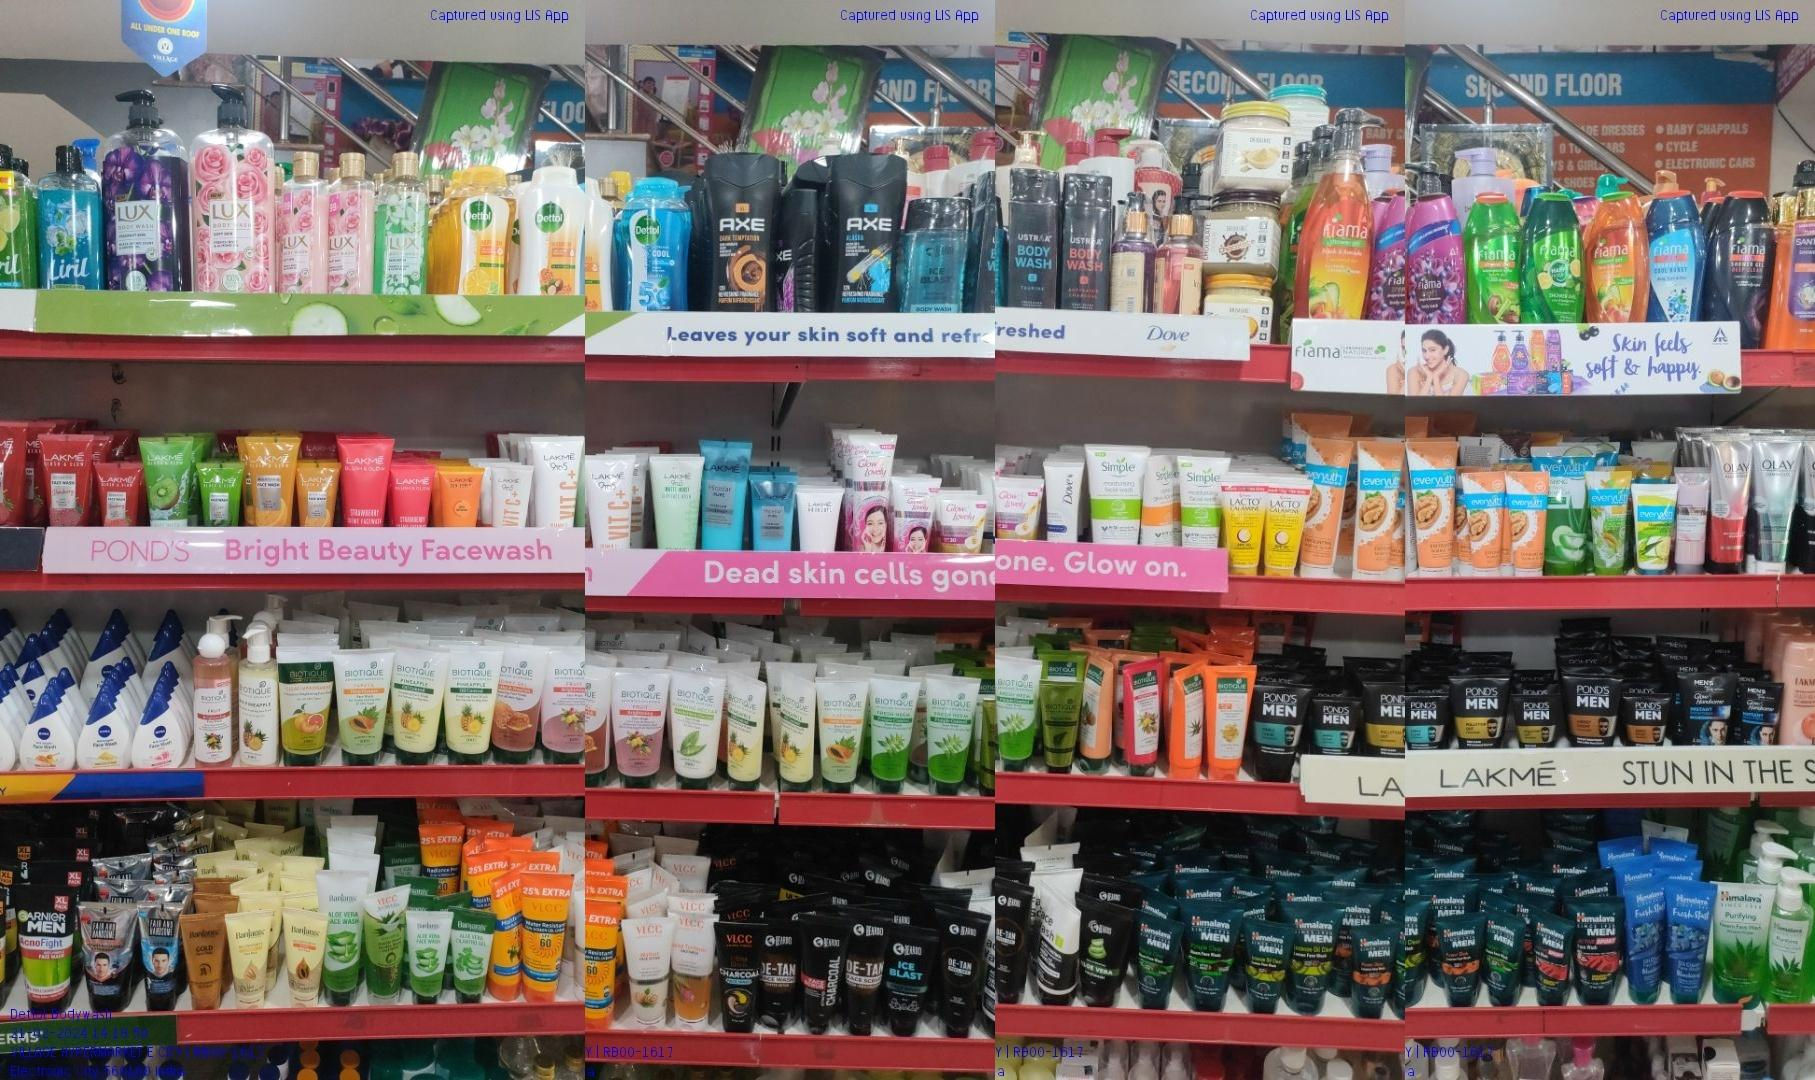Dettol_Bodywash_Cool: (620, 176, 693, 311)
Dettol_Bodywash_Refresh: (449, 165, 515, 294)
Dettol_Nourish_Body_Wash_250ML: (517, 165, 585, 296)
Fiama_Shower_Gel_Lemongrass_and_Jojoba_250ML: (1465, 194, 1519, 323)
Fiama_Shower_Gel_Peach_and_Avocado_250ML: (1585, 188, 1650, 321)
Liril_Cooling_Mint_Body_Wash_250ML: (35, 143, 103, 291)
Lux_Body_Wash_Skin_Detox_Freesia_Scent_and_Alove_Vera_245ML: (374, 150, 428, 294)
